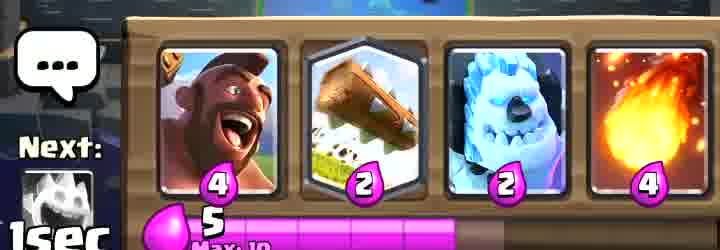fireball: (595, 47, 710, 193)
hog-rider: (159, 53, 273, 196)
ice-golem: (446, 53, 560, 198)
log: (311, 44, 423, 191)
